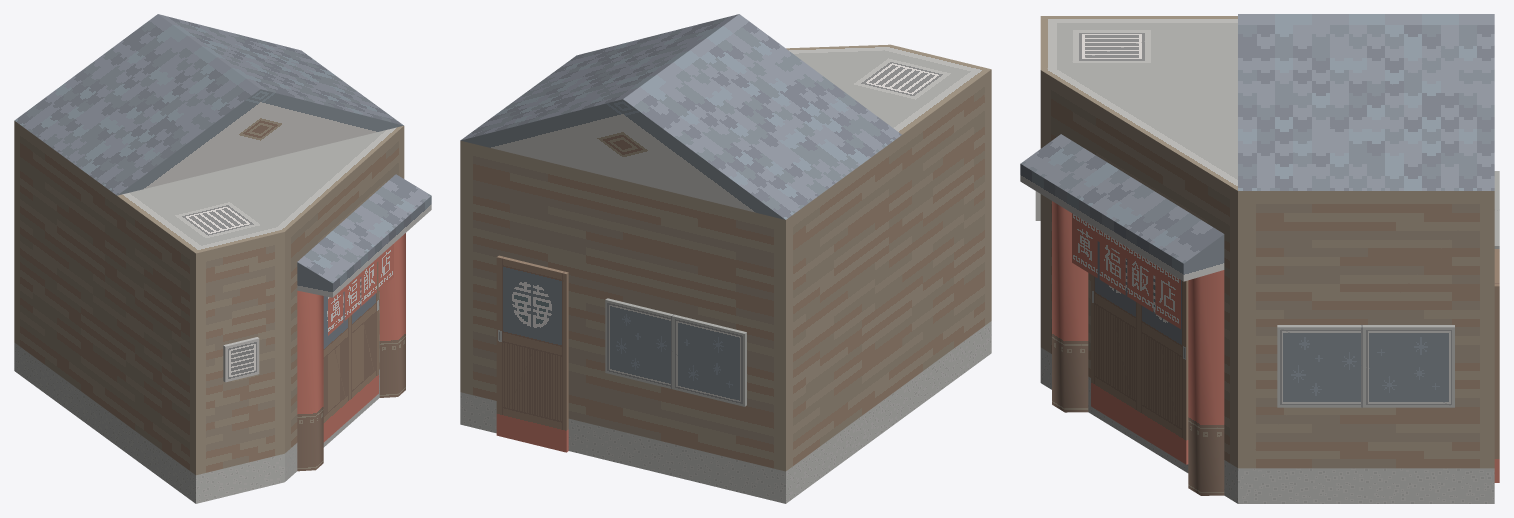
Rendered from 00d4_Ramen_Shop.glb.
3 renders of one model, left to right at view 1: azimuth 30°, elevation 25°; view 2: azimuth 150°, elevation 25°; view 3: azimuth 270°, elevation 25°, orthographic. The views are drawn at different scales.
Parts seen in each view (by area): view 1: part_0; view 2: part_0; view 3: part_0.
Boxes of the visible parts, x1=… form: part_0: x1=14, y1=14, x2=431, y2=503; part_0: x1=460, y1=14, x2=991, y2=503; part_0: x1=1020, y1=14, x2=1499, y2=503.
Bounding box in the file's own units: 4.28 × 4.5 × 4.85.
1 material, 1 textured.
